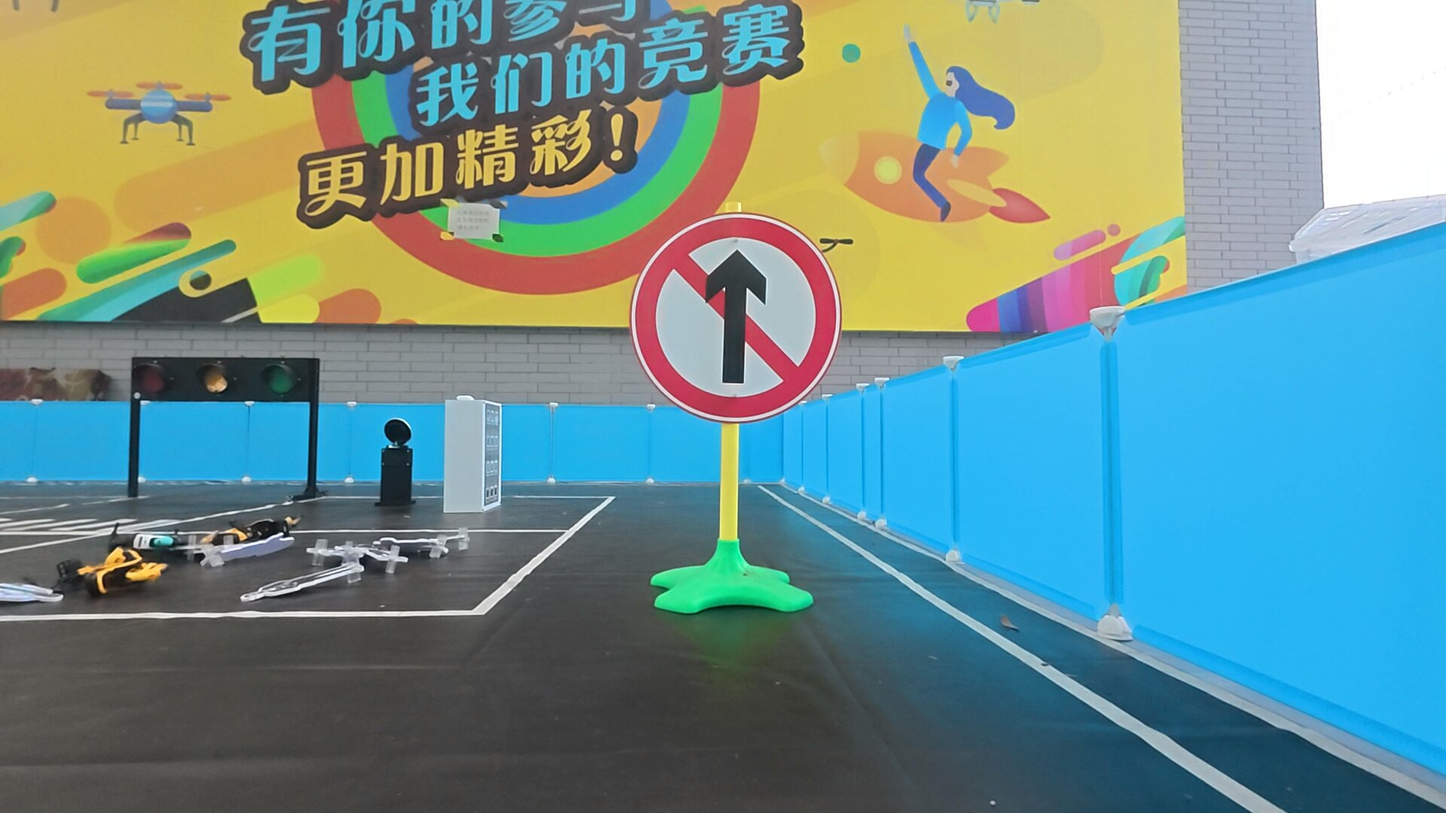obstacle: (631, 210, 844, 425)
